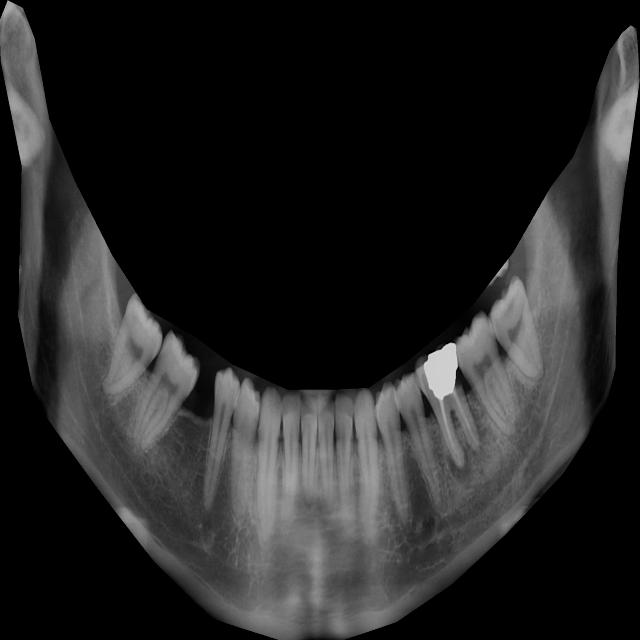mandibulamandibula: (0, 0, 640, 640)
